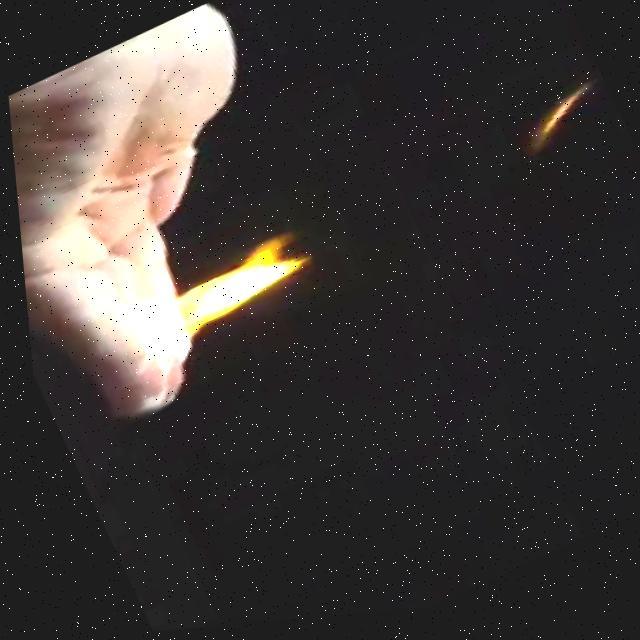Fire: (110, 222, 328, 369)
